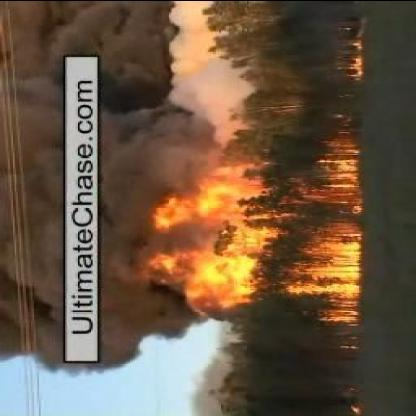-: (101, 25, 177, 345), (0, 9, 58, 364)
foggia-v2-map80-epoch100 - v1 4323: (317, 259, 361, 293)
